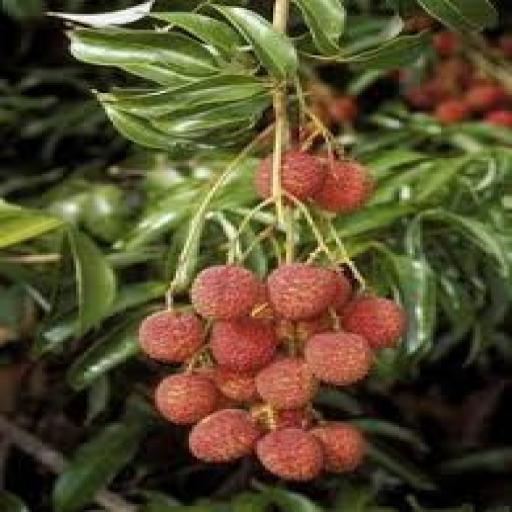lychee: (268, 263, 336, 320), (192, 265, 259, 320), (190, 410, 259, 462), (305, 333, 372, 385), (211, 319, 278, 371), (258, 427, 322, 480), (342, 295, 404, 347), (140, 311, 204, 361), (155, 374, 217, 425), (255, 358, 317, 409), (313, 161, 372, 213), (310, 424, 364, 472), (281, 151, 325, 201), (276, 315, 333, 345), (213, 366, 257, 403), (250, 404, 312, 430), (465, 84, 506, 110), (326, 95, 359, 122), (434, 99, 469, 124), (334, 271, 351, 312), (434, 32, 459, 57), (484, 109, 511, 128), (497, 34, 511, 57)
